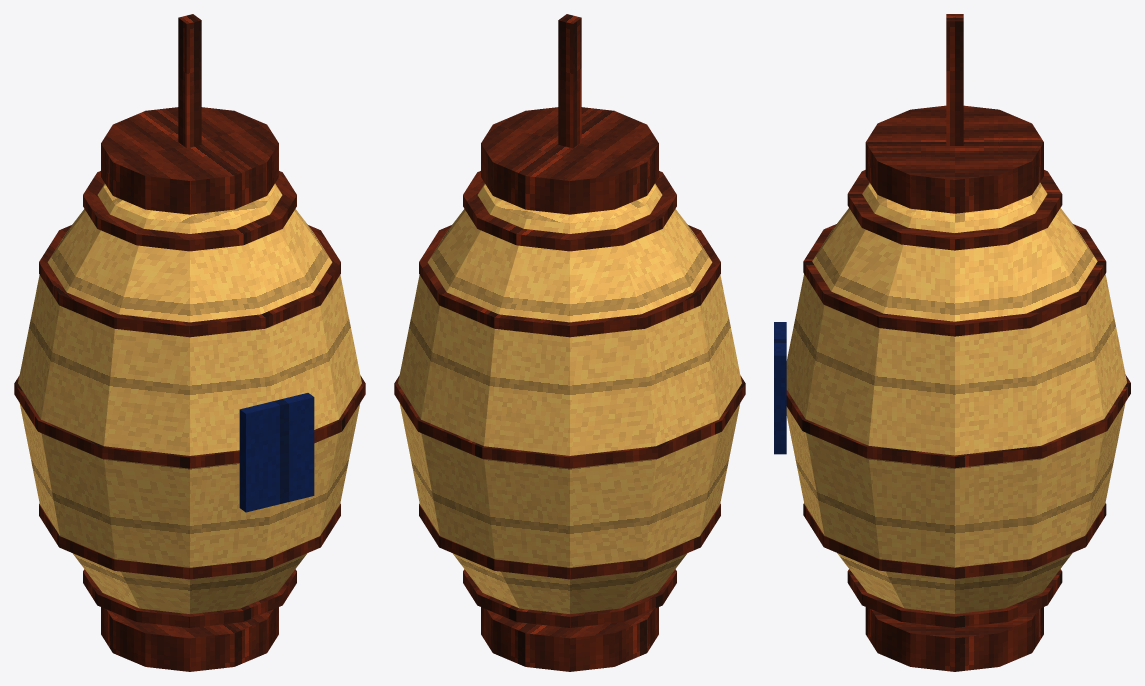
File: paper_lantern.glb
3 renders of one model, left to right at view 1: azimuth 30°, elevation 25°; view 2: azimuth 150°, elevation 25°; view 3: azimuth 270°, elevation 25°, orthographic.
Visible parts, largest first — view 1: paper_lantern; view 2: paper_lantern; view 3: paper_lantern.
Part boxes in pixels (<box>): paper_lantern: <box>14,14,365,671</box>; paper_lantern: <box>394,14,745,671</box>; paper_lantern: <box>774,14,1130,671</box>.
Bounding box in the file's own units: 0.71 × 1.37 × 0.7195.
Materials: 3 (3 with a texture image).
